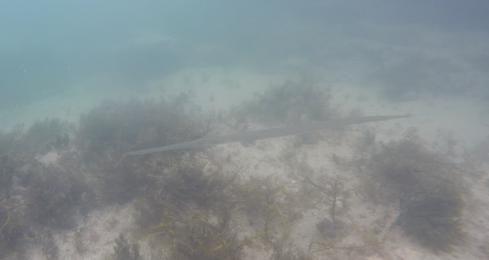Fistularia commersonii: (81, 114, 463, 169)
